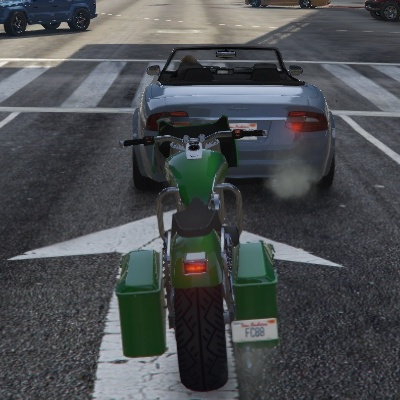on: (181, 251, 209, 278)
